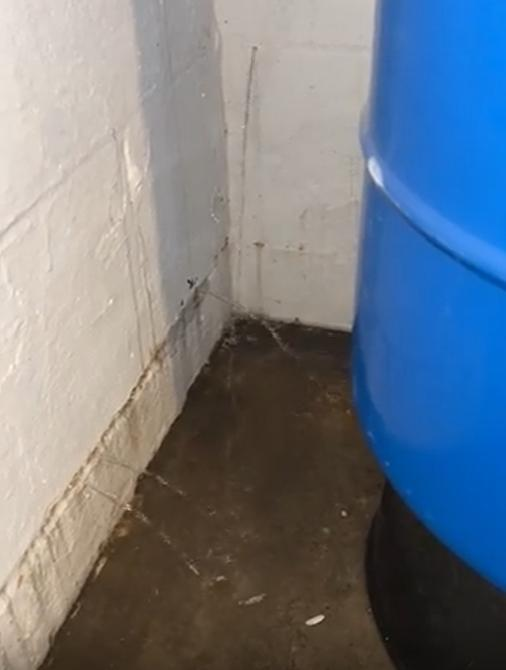water accumulation: (0, 312, 439, 670)
